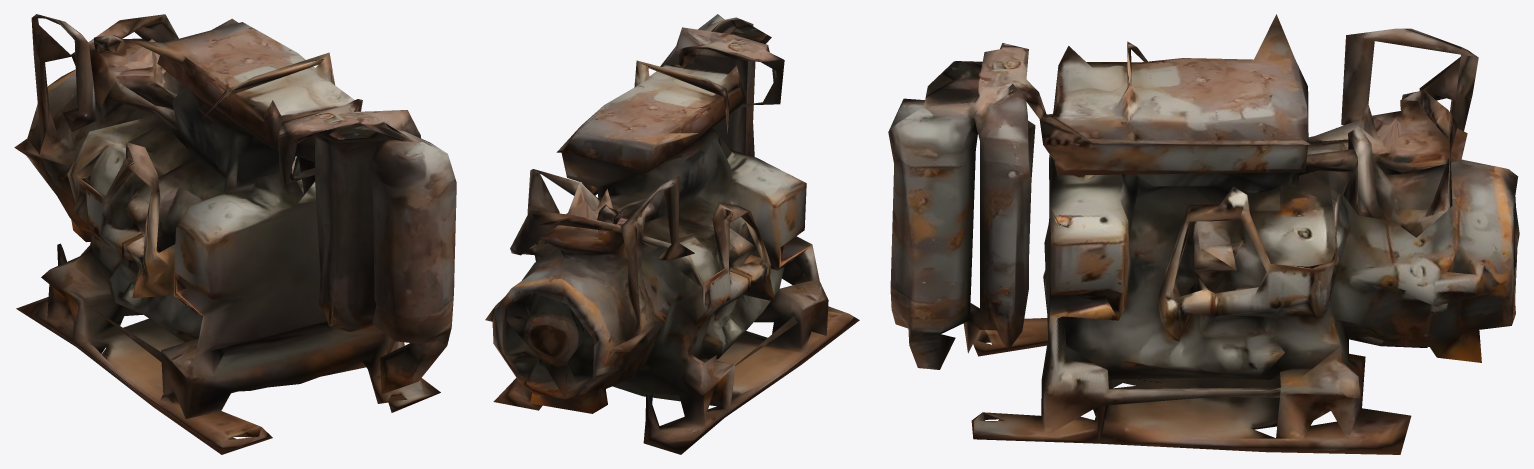
Rendered from e_generator.glb.
3 views of the same model, side by side, from view 1: azimuth 30°, elevation 25°; view 2: azimuth 150°, elevation 25°; view 3: azimuth 270°, elevation 25° (orthographic). The views are drawn at different scales.
Parts seen in each view (by area): view 1: tripo_node_6b60b8fc-14d3-4deb-bc2b-718d13b23ef6; view 2: tripo_node_6b60b8fc-14d3-4deb-bc2b-718d13b23ef6; view 3: tripo_node_6b60b8fc-14d3-4deb-bc2b-718d13b23ef6.
Part boxes in pixels (<box>): tripo_node_6b60b8fc-14d3-4deb-bc2b-718d13b23ef6: <box>14,14,456,454</box>; tripo_node_6b60b8fc-14d3-4deb-bc2b-718d13b23ef6: <box>485,14,859,454</box>; tripo_node_6b60b8fc-14d3-4deb-bc2b-718d13b23ef6: <box>888,14,1519,454</box>.
Size of the model in its own units: 0.4579 by 0.605 by 1.
1 material, 1 textured.
